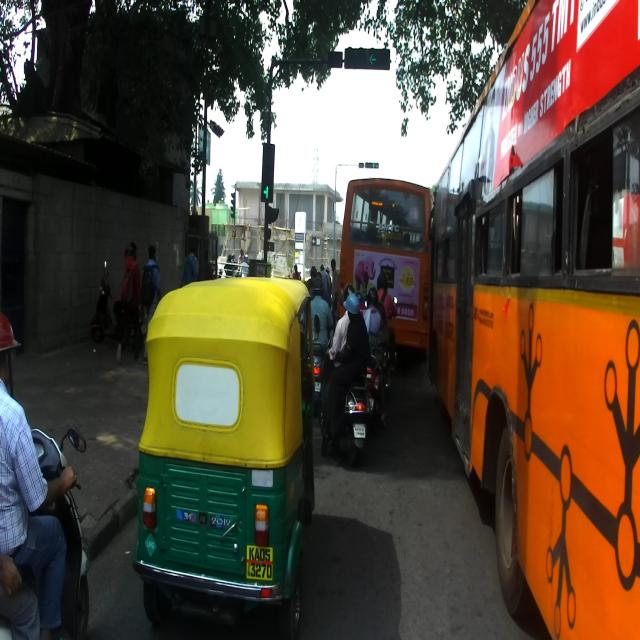autorickshaw: (132, 274, 320, 640)
bus: (425, 0, 639, 638), (337, 177, 430, 359)
motorcycle_RoyalEnfield: (364, 296, 398, 396)
scooter: (0, 426, 89, 638), (320, 332, 373, 467), (90, 259, 144, 349), (367, 333, 391, 434)
